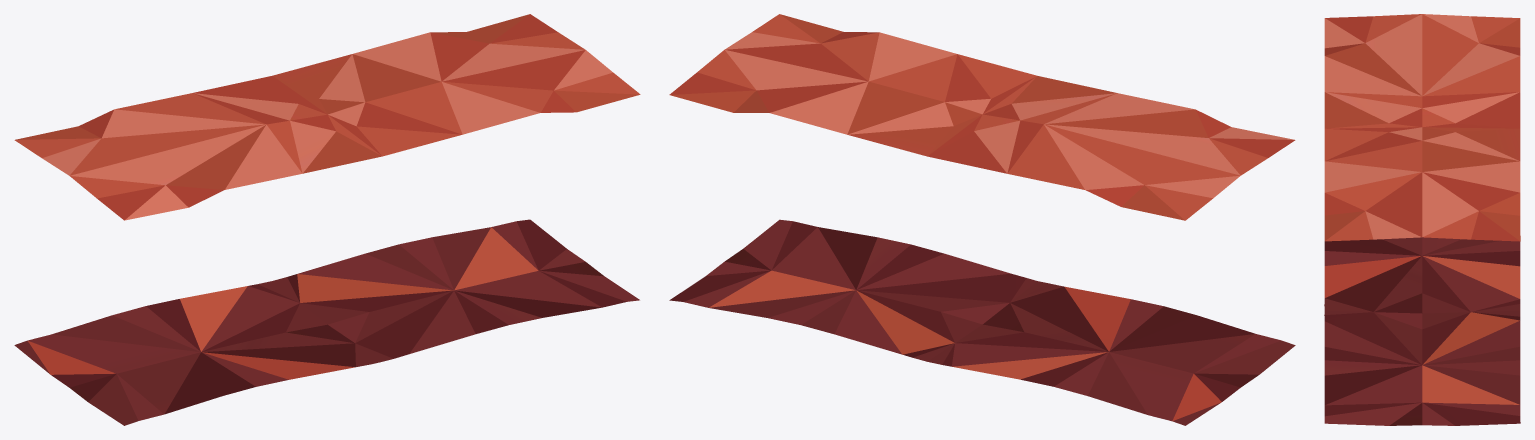
File: Tunnel_Center_Piece_M.fbx
3 views of the same model, side by side, from view 1: azimuth 30°, elevation 25°; view 2: azimuth 150°, elevation 25°; view 3: azimuth 270°, elevation 25° (orthographic). The views are drawn at different scales.
Visible parts, largest first — view 1: polySurface23; view 2: polySurface23; view 3: polySurface23.
Boxes of the visible parts, x1,y1,x2,y2 form: polySurface23: (14,14,640,425); polySurface23: (669,14,1295,425); polySurface23: (1324,14,1520,425).
Bounding box in the file's own units: 801 × 320 × 297.
